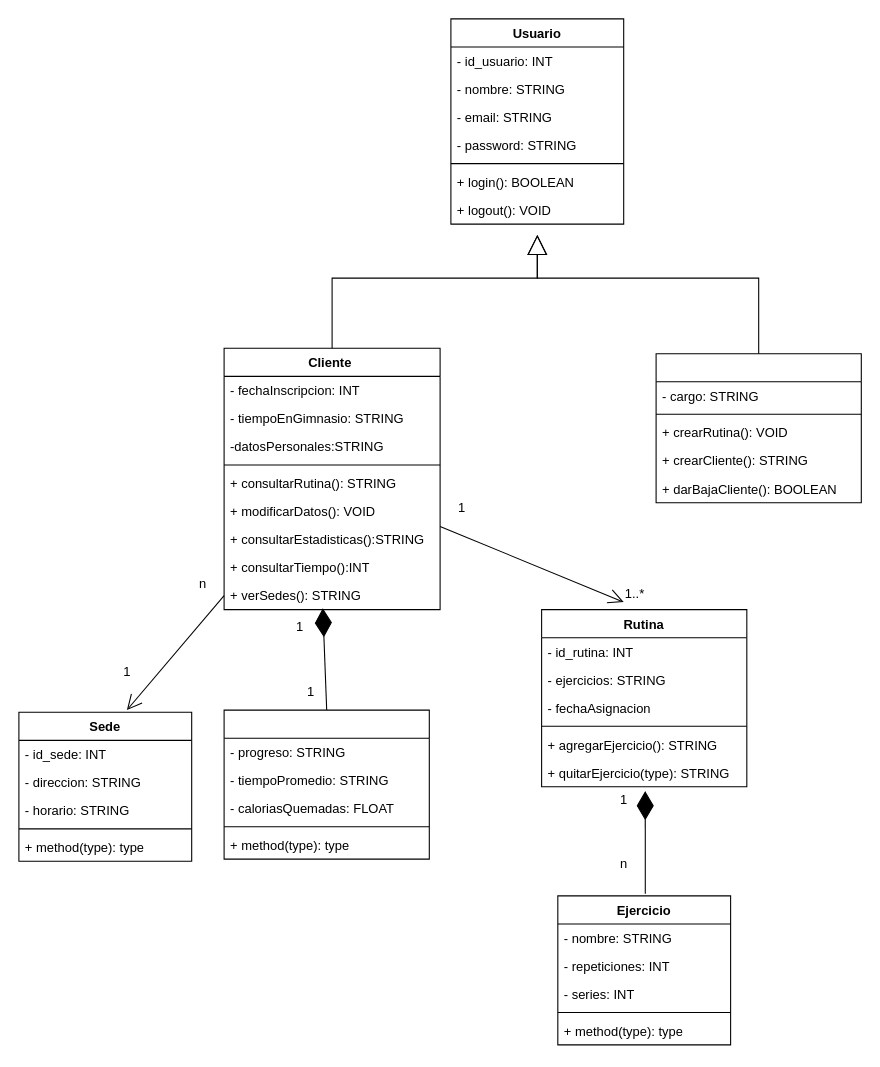
Some shapes in this 880 by 1067 pixel diagram are drawn without their labels. Each missing label, with the box of its shape:
Administrativo: (655, 353, 861, 503)
Estadisticas: (223, 709, 429, 859)
